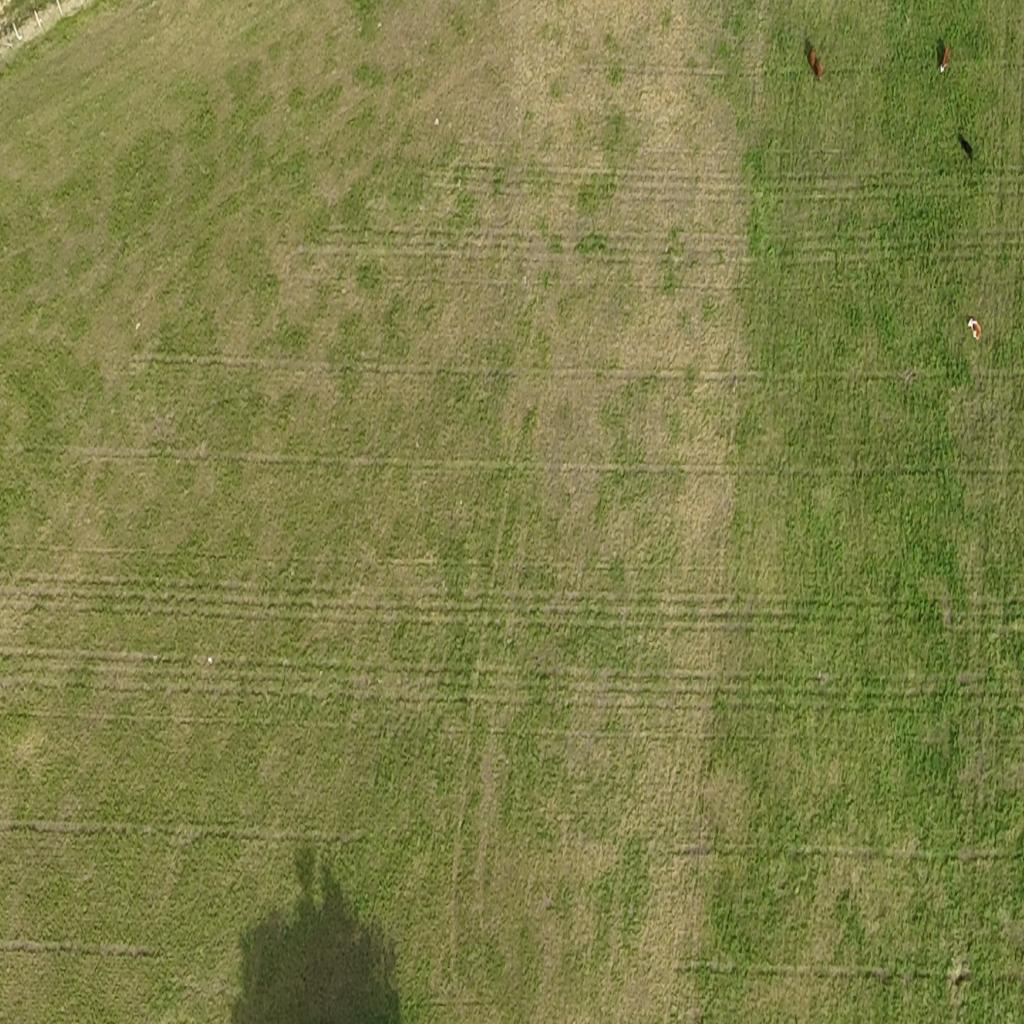cow: (936, 35, 952, 77), (802, 40, 817, 78), (957, 130, 974, 163), (968, 317, 982, 345), (813, 54, 826, 84)
